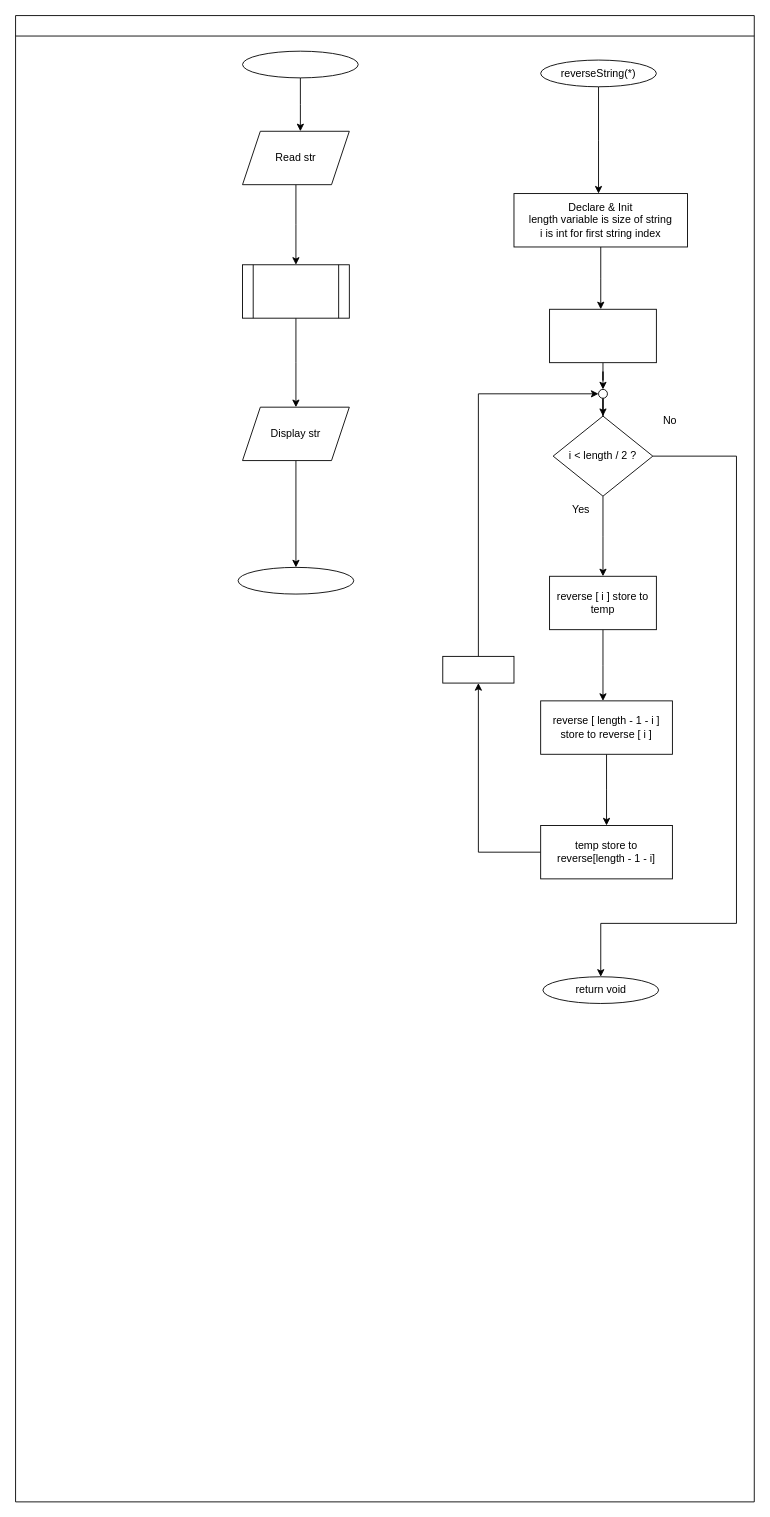
Some shapes in this 770 by 1517 pixel diagram are drawn without their labels. Each missing label, with the centre of its shape:
"End" goes at (295,580).
"i = 0" goes at (602,335).
"i++" goes at (478,669).
"reverseString(*str)" goes at (295,291).
"Start" goes at (300,64).
